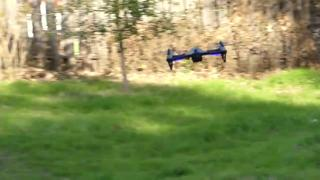UAV: (165, 41, 236, 70)
